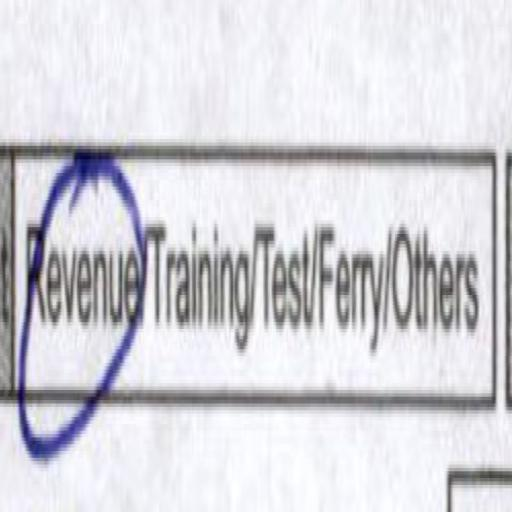check: (24, 89, 146, 442)
